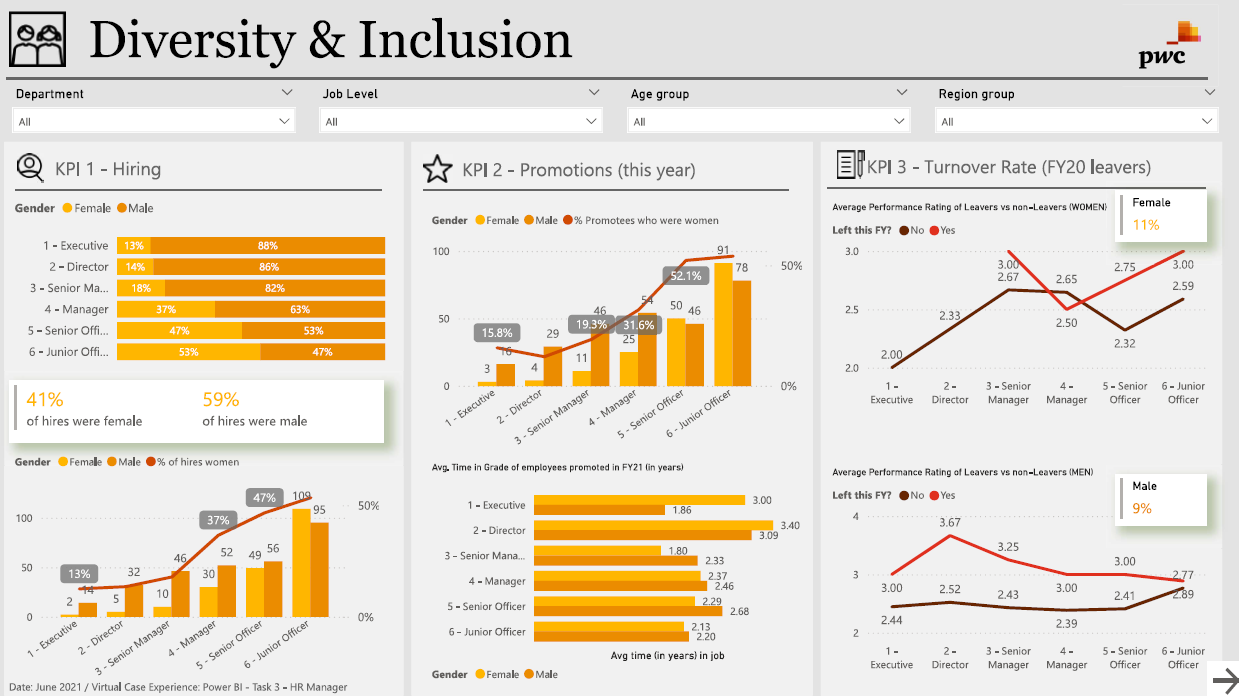

What the dashboard file says about the page in this screenshot:
{"tool":"powerbi","page":{"name":"HR Manager (1/2)","canvas":[1280,720],"ordinal":0},"visuals":[{"type":"textbox","box":[88.7,4.8,1172.9,75.2],"z":0},{"type":"basicShape","box":[0,60.8,1253,40.5],"z":1000},{"type":"basicShape","box":[3.9,139.9,418.6,579.7],"z":2000},{"type":"hundredPercentStackedBarChart","fields":{"Series":["HR Manager.Gender"],"Y":["CountNonNull(HR Manager.Employee ID)"],"Category":["HR Manager.Job Level after FY20 promotions"]},"box":[14.5,193.9,389.7,190],"z":3000},{"type":"multiRowCard","fields":{"Values":["HR Manager.% of hires women","HR Manager.% of hires men"]},"box":[14.5,390.7,382.9,63.7],"z":4000},{"type":"lineClusteredColumnComboChart","fields":{"Category":["HR Manager.Job Level after FY20 promotions"],"Series":["HR Manager.Gender"],"Y":["CountNonNull(HR Manager.Employee ID)"],"Y2":["HR Manager.% of hires women"]},"box":[14.5,455.3,382.9,250.8],"z":5000},{"type":"textbox","box":[55,155.3,315.4,35.7],"z":6000},{"type":"basicShape","box":[9.6,175.6,395.5,39.5],"z":7000},{"type":"basicShape","box":[422.5,139.9,419.6,579.7],"z":8000},{"type":"textbox","box":[473,155.7,315.4,35.7],"z":9000},{"type":"basicShape","box":[427.7,175.9,395.5,39.5],"z":10000},{"type":"image","box":[433.1,153.4,39.5,40.5],"z":11000},{"type":"lineClusteredColumnComboChart","fields":{"Y":["CountNonNull(HR Manager.Employee ID)"],"Series":["HR Manager.Gender"],"Y2":["HR Manager.% Promotees who were women"],"Category":["HR Manager.Job Level after FY21 promotions"]},"box":[441.8,207.4,389.7,263.3],"z":12000},{"type":"image","box":[1129,0,151,94.5],"z":13000},{"type":"image","box":[8.7,0,67.5,81],"z":14000},{"type":"image","box":[15.4,153.4,39.5,38.6],"z":15000},{"type":"basicShape","box":[842.1,139.9,419.6,579.7],"z":16000},{"type":"basicShape","box":[843.4,173,408,39.5],"z":17000},{"type":"textbox","box":[888.5,152.5,315.4,35.7],"z":18000},{"type":"clusteredBarChart","title":"Avg. Time in Grade of employees promoted in FY21 (in years)","fields":{"Category":["HR Manager.Job Level after FY20 promotions"],"Series":["HR Manager.Gender"],"Y":["Avg(HR Manager.Time in Job Level @01.07.2020)"]},"box":[441.8,473.6,389.7,236.3],"z":19000},{"type":"lineChart","title":"Average Performance Rating of Leavers vs non-Leavers (WOMEN)","fields":{"Category":["HR Manager.Job Level after FY20 promotions"],"Y":["Avg(HR Manager.FY19 Performance Rating)"],"Series":["HR Manager.FY20 leaver?"]},"box":[852.7,207.4,398.4,218],"z":20000},{"type":"lineChart","title":"Average Performance Rating of Leavers vs non-Leavers (MEN)","fields":{"Category":["HR Manager.Job Level after FY20 promotions"],"Y":["Avg(HR Manager.FY19 Performance Rating)"],"Series":["HR Manager.FY20 leaver?"]},"box":[852.7,479.4,398.4,218],"z":21000},{"type":"multiRowCard","fields":{"Values":["HR Manager.Gender","HR Manager.% Turnover"]},"box":[1148.8,195.8,93.6,52.1],"z":22000},{"type":"multiRowCard","fields":{"Values":["HR Manager.Gender","HR Manager.% Turnover"]},"box":[1148.8,487.1,93.6,52.1],"z":23000},{"type":"slicer","fields":{"Values":["HR Manager.Last Department in FY20"]},"box":[6.8,83.9,310,55.9],"z":24000},{"type":"slicer","fields":{"Values":["HR Manager.Job Level after FY20 promotions"]},"box":[322.5,83.9,310,55.9],"z":25000},{"type":"slicer","fields":{"Values":["HR Manager.Age group"]},"box":[638.2,83.9,310,55.9],"z":26000},{"type":"slicer","fields":{"Values":["HR Manager.Broad region group: nationality 1"]},"box":[954,83.9,310,55.9],"z":27000},{"type":"image","box":[852.7,149.5,47.3,38.6],"z":28000},{"type":"actionButton","box":[1243.1,679.1,36.9,40.2],"z":29000},{"type":"textbox","box":[7.7,689.7,397.4,29.9],"z":30000}]}

Visuals, with their boxes in screenshot pixels (x1, y1, x2, y2), scaled from the page's 1280x720 canvas onto the 1239x696 screenshot:
textbox: {"x1": 86, "y1": 5, "x2": 1221, "y2": 77}
basicShape: {"x1": 0, "y1": 59, "x2": 1213, "y2": 98}
basicShape: {"x1": 4, "y1": 135, "x2": 409, "y2": 695}
hundredPercentStackedBarChart - HR Manager.Gender x CountNonNull(HR Manager.Employee ID): {"x1": 14, "y1": 187, "x2": 391, "y2": 371}
multiRowCard - HR Manager.% of hires women x HR Manager.% of hires men: {"x1": 14, "y1": 378, "x2": 385, "y2": 439}
lineClusteredColumnComboChart - HR Manager.Job Level after FY20 promotions x HR Manager.Gender: {"x1": 14, "y1": 440, "x2": 385, "y2": 683}
textbox: {"x1": 53, "y1": 150, "x2": 359, "y2": 185}
basicShape: {"x1": 9, "y1": 170, "x2": 392, "y2": 208}
basicShape: {"x1": 409, "y1": 135, "x2": 815, "y2": 695}
textbox: {"x1": 458, "y1": 151, "x2": 763, "y2": 185}
basicShape: {"x1": 414, "y1": 170, "x2": 797, "y2": 208}
image: {"x1": 419, "y1": 148, "x2": 457, "y2": 187}
lineClusteredColumnComboChart - CountNonNull(HR Manager.Employee ID) x HR Manager.Gender: {"x1": 428, "y1": 200, "x2": 805, "y2": 455}
image: {"x1": 1093, "y1": 0, "x2": 1238, "y2": 91}
image: {"x1": 8, "y1": 0, "x2": 74, "y2": 78}
image: {"x1": 15, "y1": 148, "x2": 53, "y2": 186}
basicShape: {"x1": 815, "y1": 135, "x2": 1221, "y2": 695}
basicShape: {"x1": 816, "y1": 167, "x2": 1211, "y2": 205}
textbox: {"x1": 860, "y1": 147, "x2": 1165, "y2": 182}
"Avg. Time in Grade of employees promoted in FY21 (in years)" clusteredBarChart: {"x1": 428, "y1": 458, "x2": 805, "y2": 686}
"Average Performance Rating of Leavers vs non-Leavers (WOMEN)" lineChart: {"x1": 825, "y1": 200, "x2": 1211, "y2": 411}
"Average Performance Rating of Leavers vs non-Leavers (MEN)" lineChart: {"x1": 825, "y1": 463, "x2": 1211, "y2": 674}
multiRowCard - HR Manager.Gender x HR Manager.% Turnover: {"x1": 1112, "y1": 189, "x2": 1203, "y2": 240}
multiRowCard - HR Manager.Gender x HR Manager.% Turnover: {"x1": 1112, "y1": 471, "x2": 1203, "y2": 521}
slicer - HR Manager.Last Department in FY20: {"x1": 7, "y1": 81, "x2": 307, "y2": 135}
slicer - HR Manager.Job Level after FY20 promotions: {"x1": 312, "y1": 81, "x2": 612, "y2": 135}
slicer - HR Manager.Age group: {"x1": 618, "y1": 81, "x2": 918, "y2": 135}
slicer - HR Manager.Broad region group: nationality 1: {"x1": 923, "y1": 81, "x2": 1224, "y2": 135}
image: {"x1": 825, "y1": 145, "x2": 871, "y2": 182}
actionButton: {"x1": 1203, "y1": 656, "x2": 1238, "y2": 695}
textbox: {"x1": 7, "y1": 667, "x2": 392, "y2": 695}
